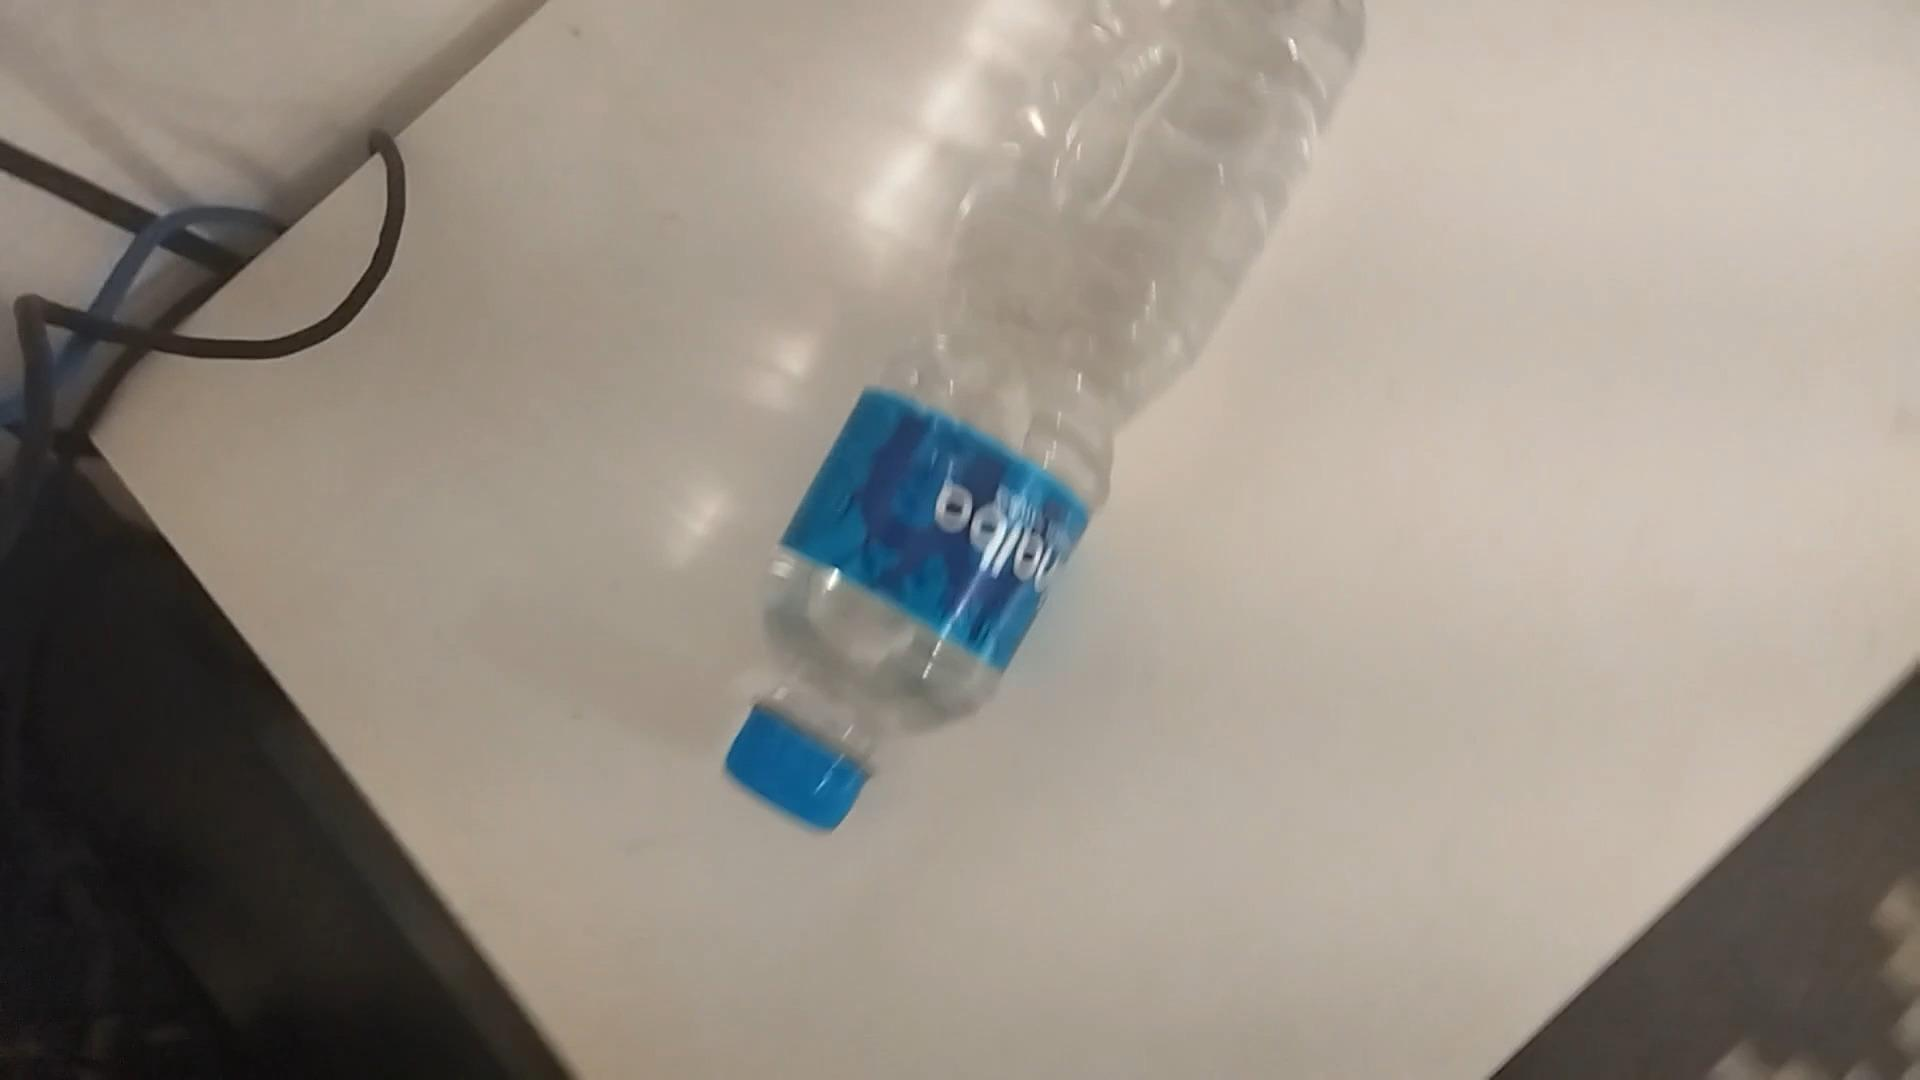agua: (737, 8, 1358, 825)
